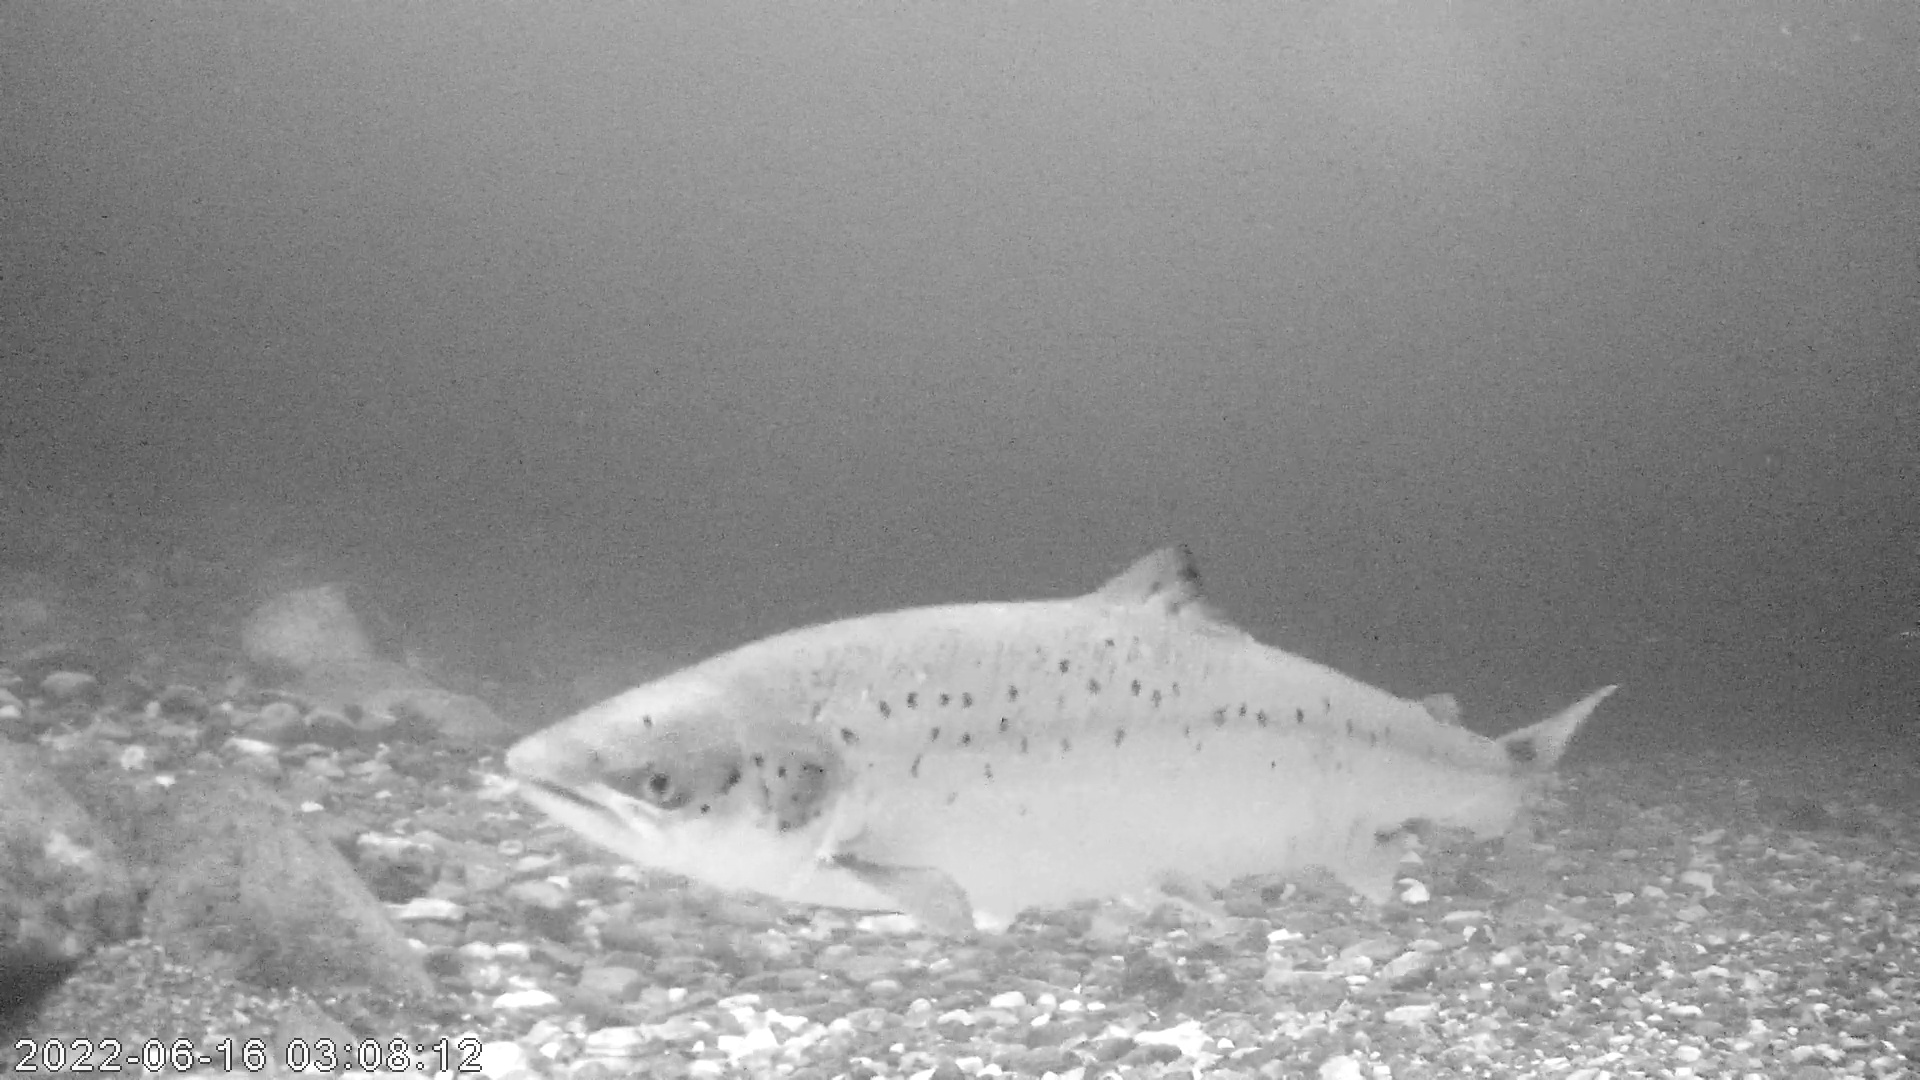salmon: (502, 539, 1623, 944)
